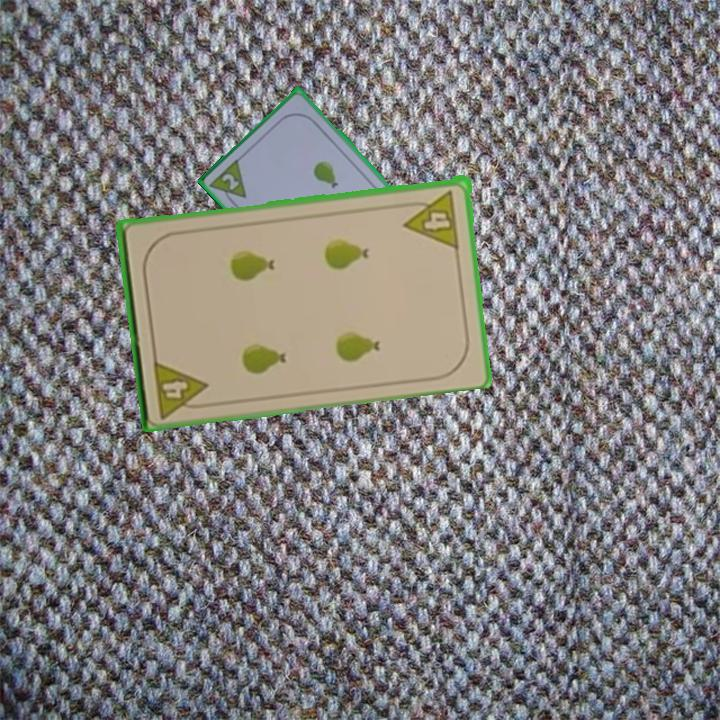2p: (207, 155, 250, 211)
4p: (150, 356, 214, 421), (400, 185, 462, 250)
